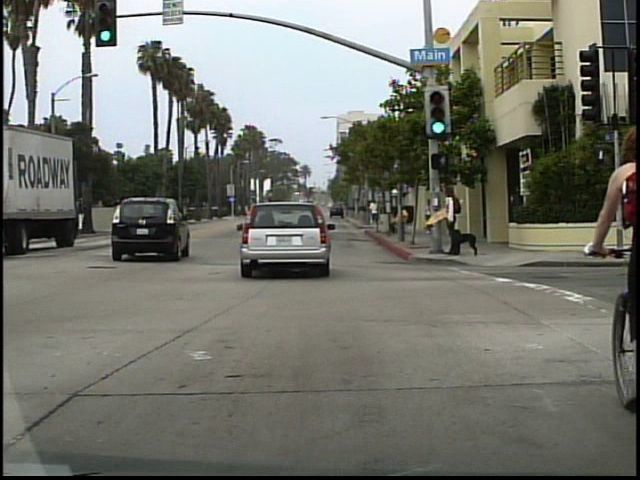person: (442, 185, 465, 253), (370, 196, 382, 229)
